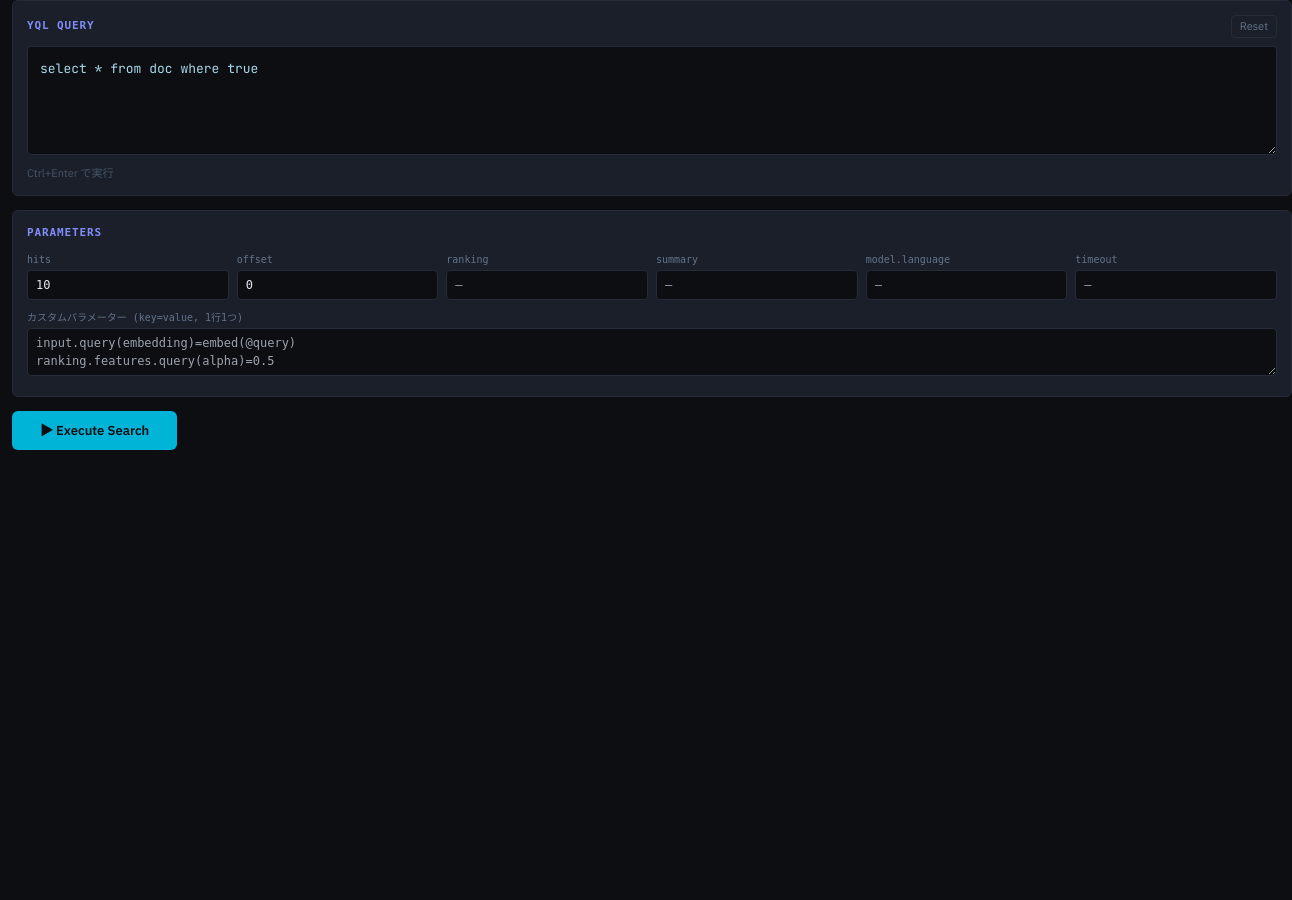
it: SearchPanel › ヒットが返された場合、ヒットカードが表示される
This screenshot has width=1292, height=900.
Click the button "▶ Execute Search".
click(95, 430)  # box [12,411,177,450]
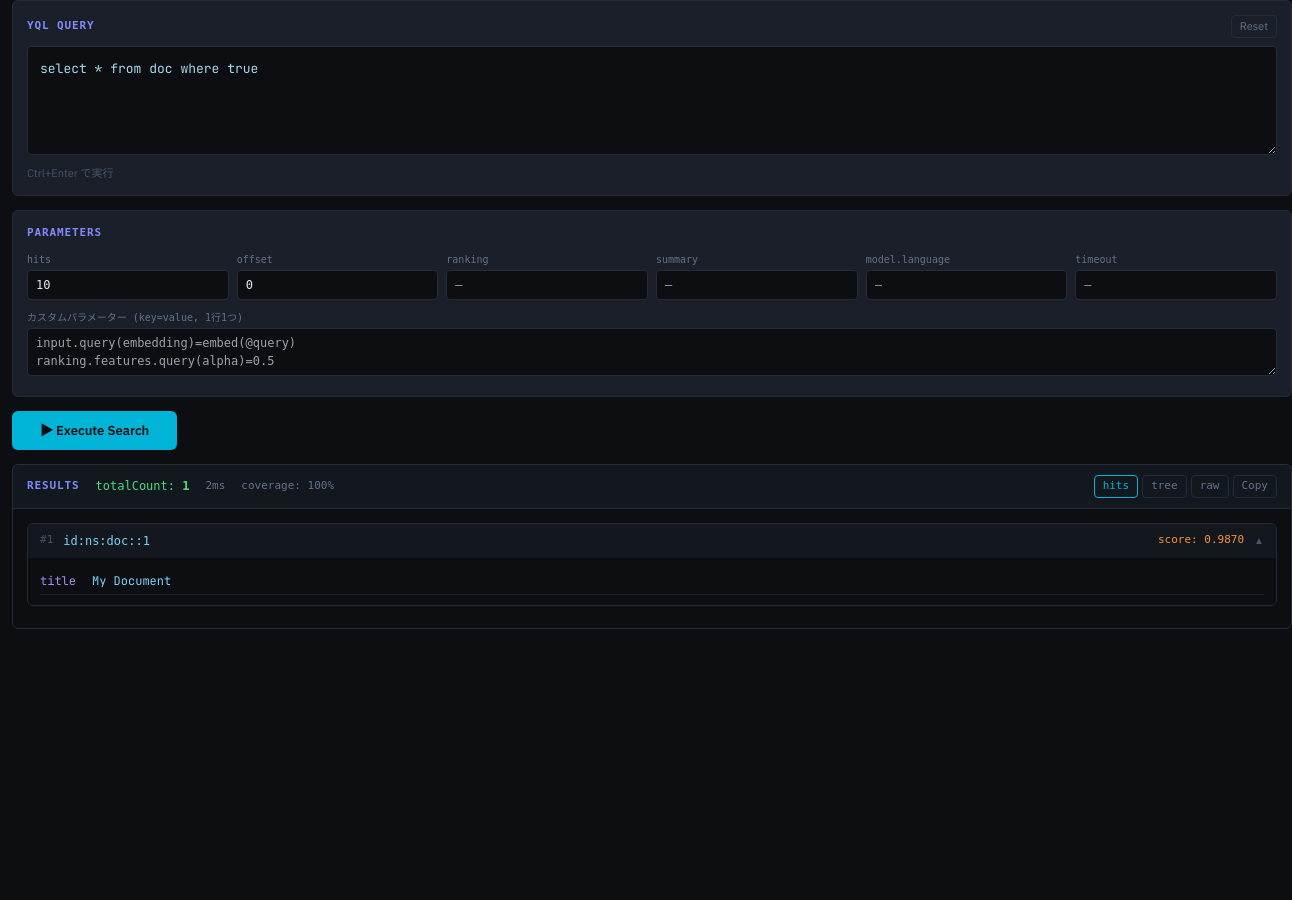
Check: the text "id:ns:doc::1" is shown, box [63,534,150,548]
